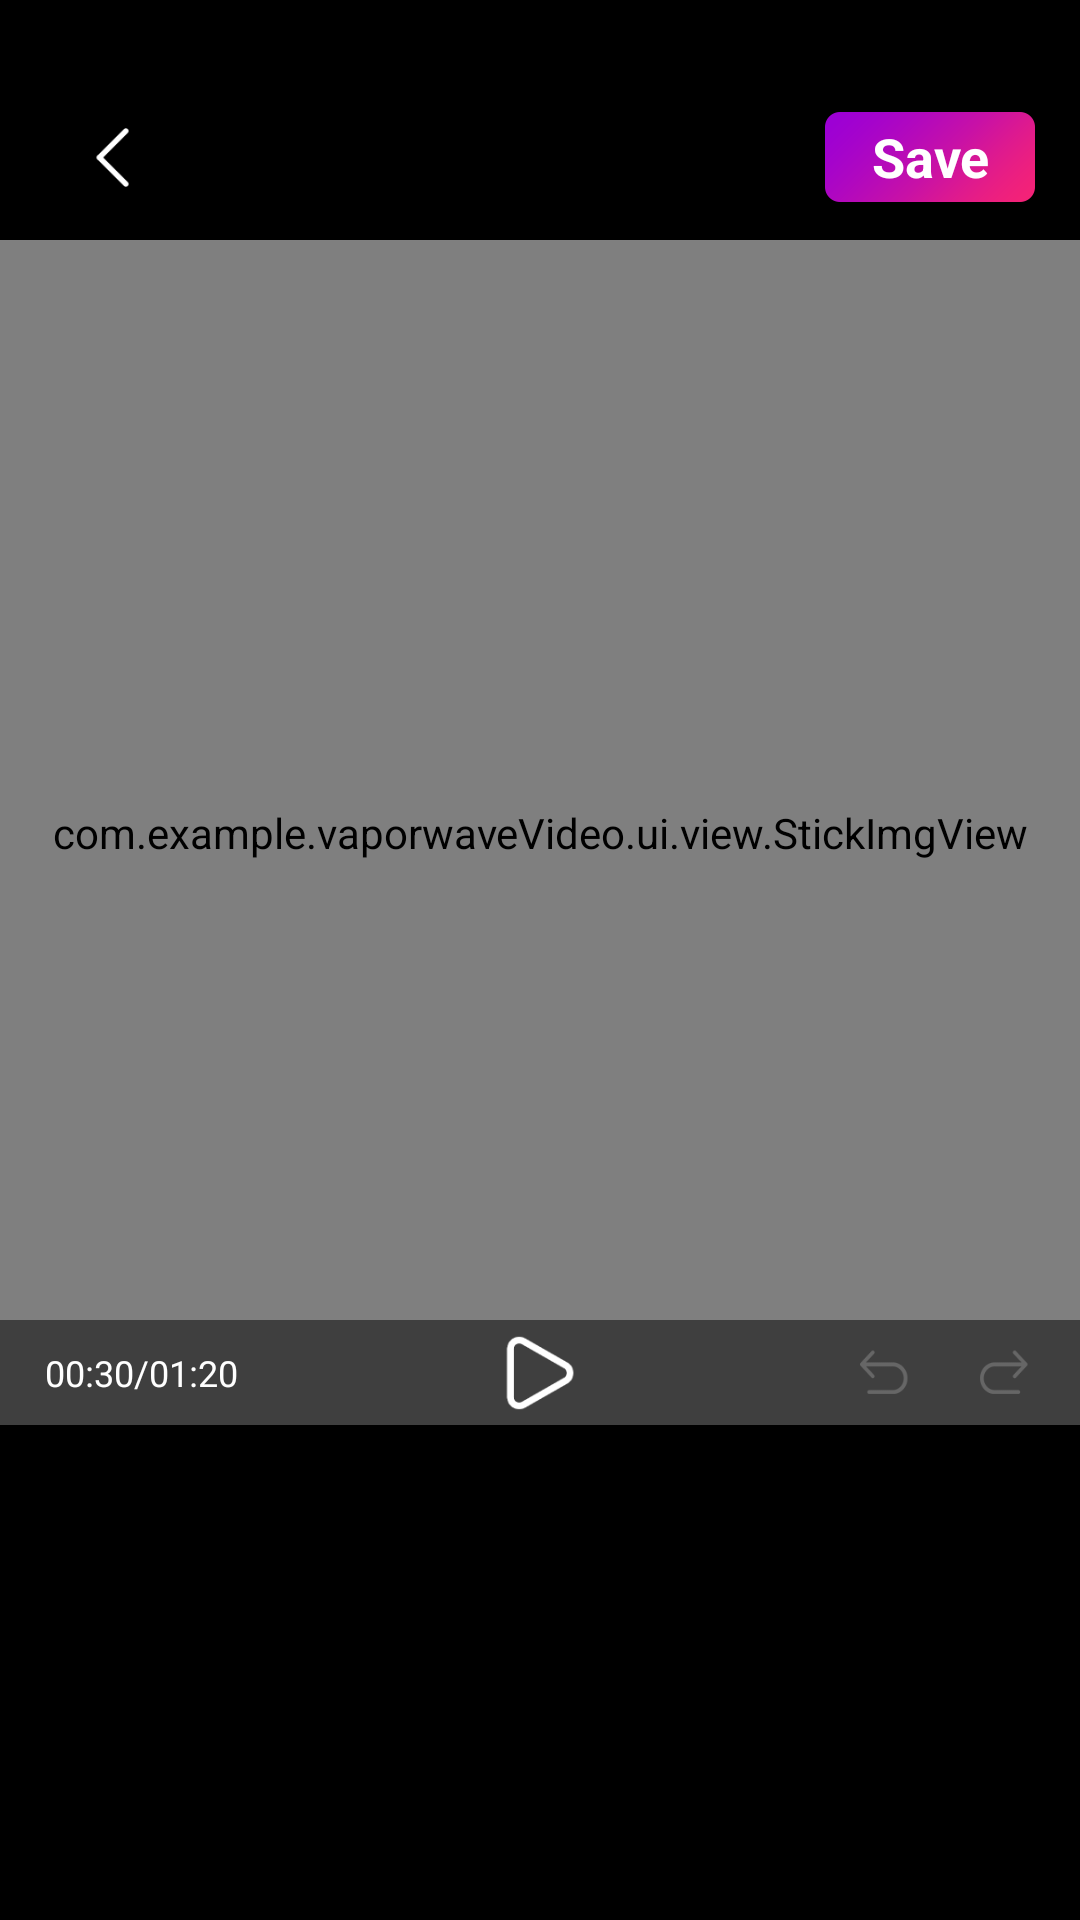

Screen size 1080 × 1920. Icon name, then its box in pixels as rect(x1, y1, x2, y2):
back: rect(96, 128, 129, 187)
play: rect(506, 1336, 574, 1410)
undo left disable: rect(860, 1351, 907, 1394)
undo right disable: rect(980, 1351, 1027, 1394)
